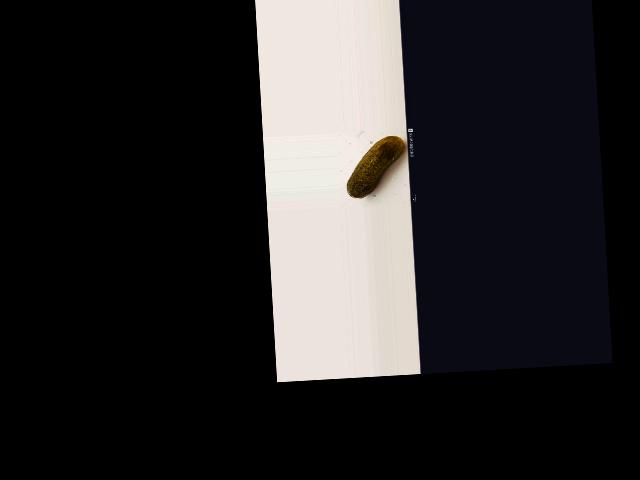cucumber: (344, 135, 407, 199)
